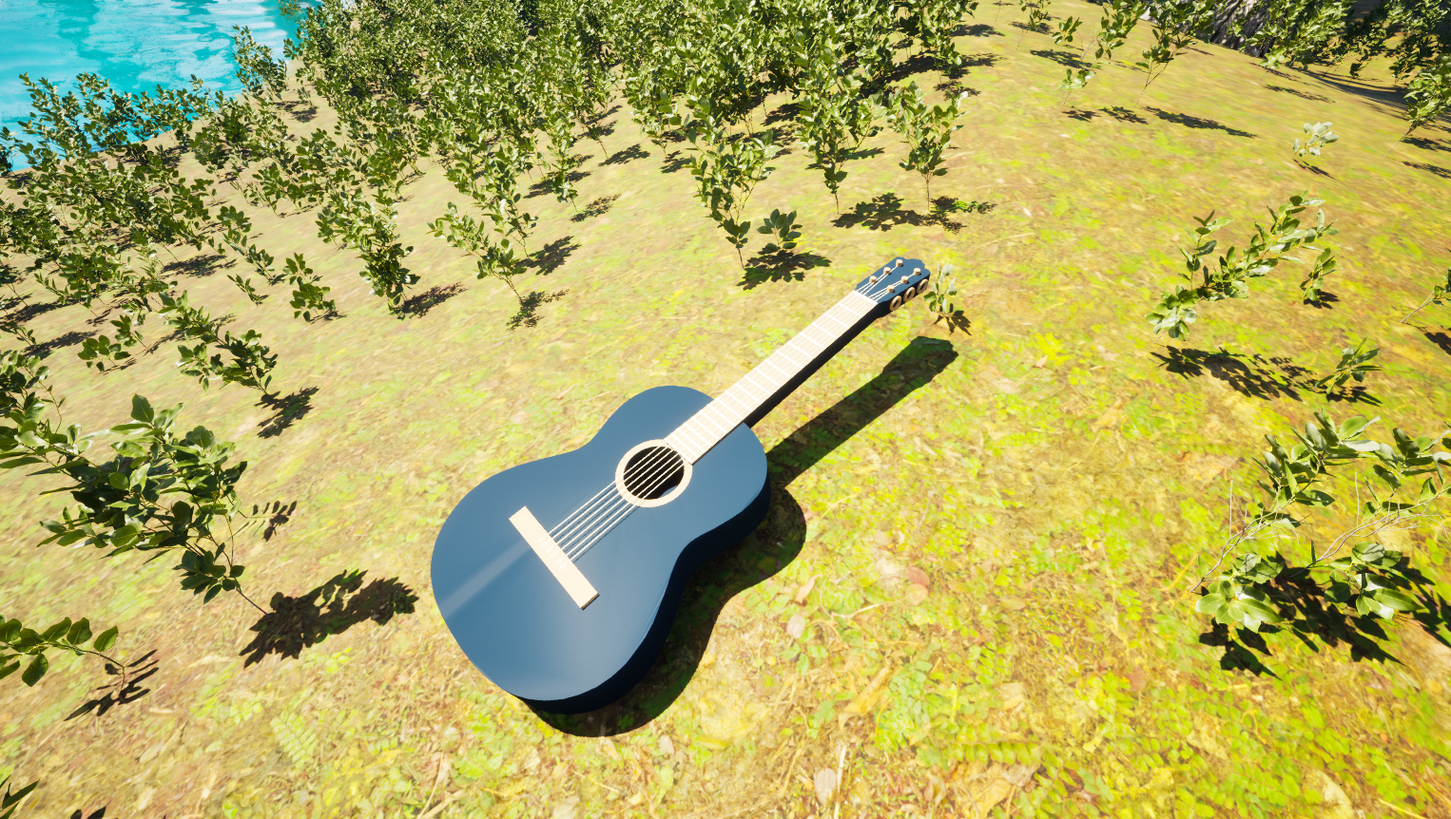Guitar: (340, 208, 1019, 776)
